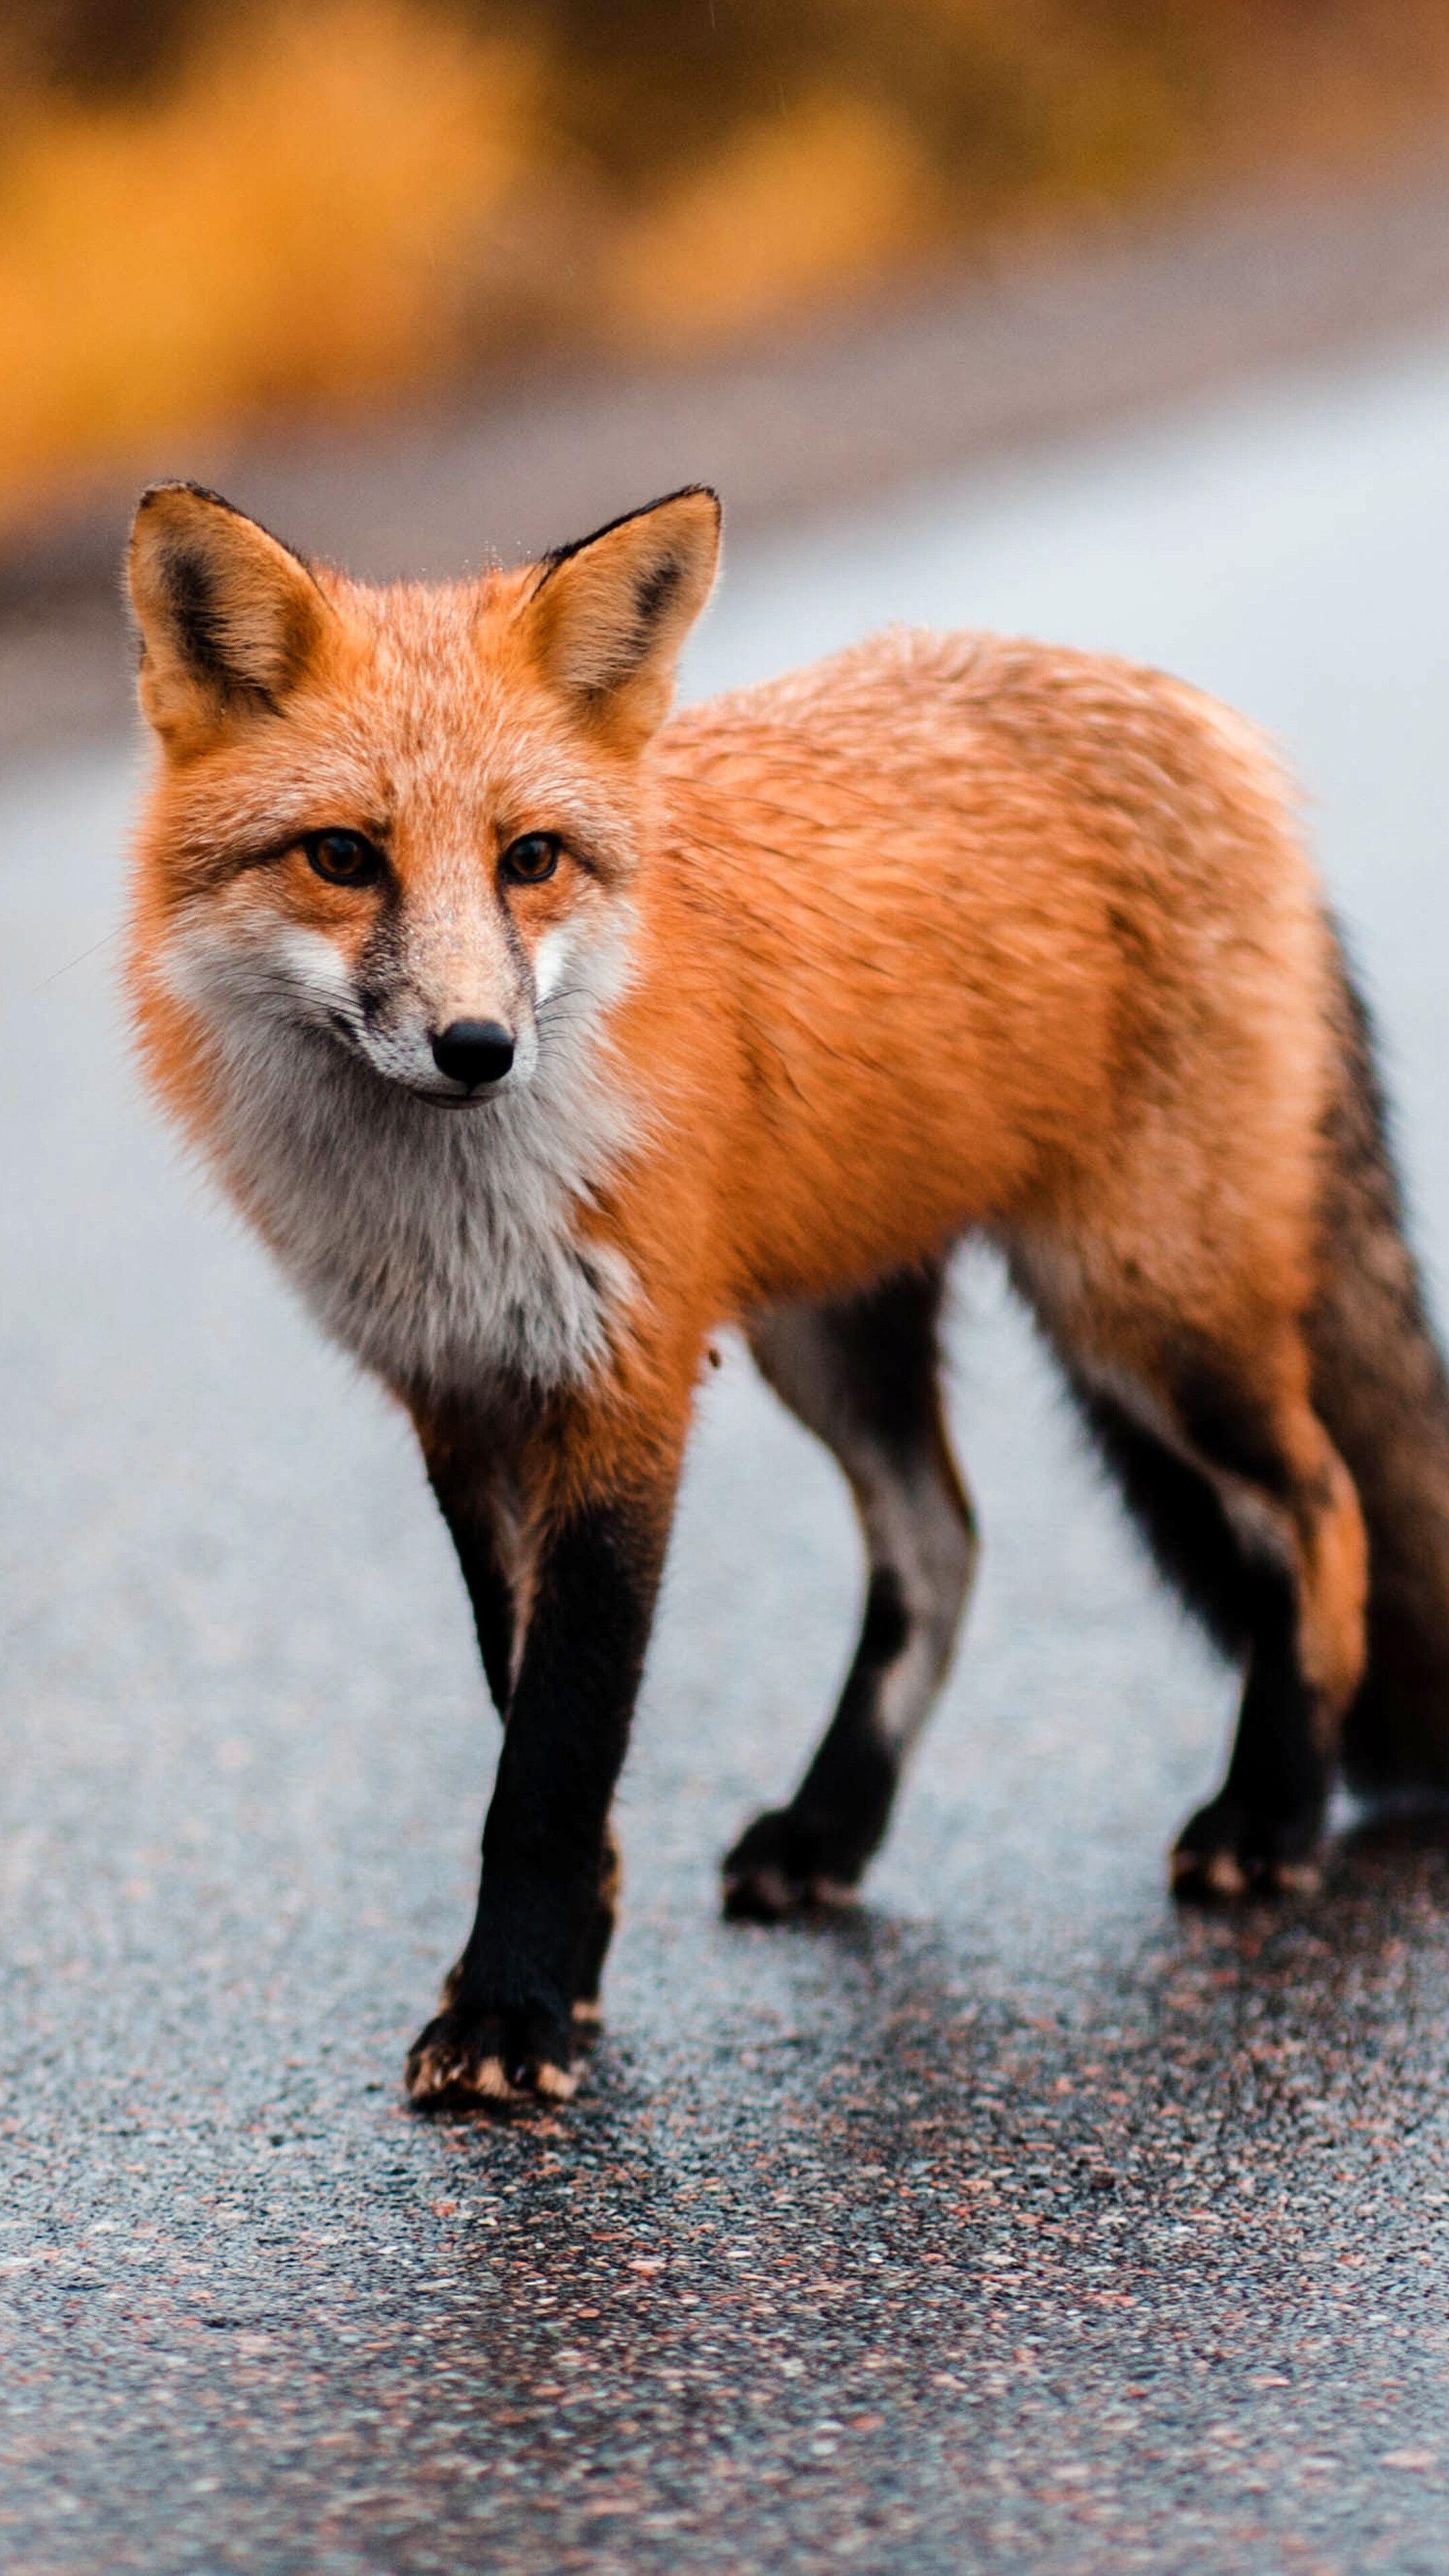fox: (64, 439, 1449, 2144)
